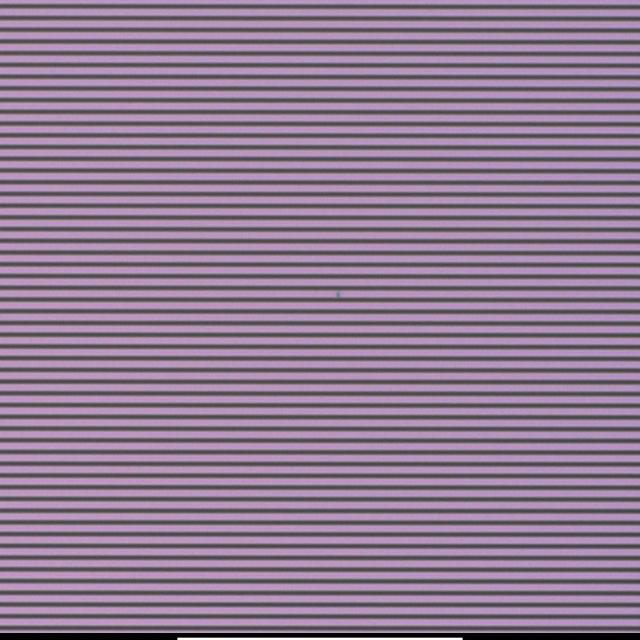nonvisual: (331, 286, 346, 302)
